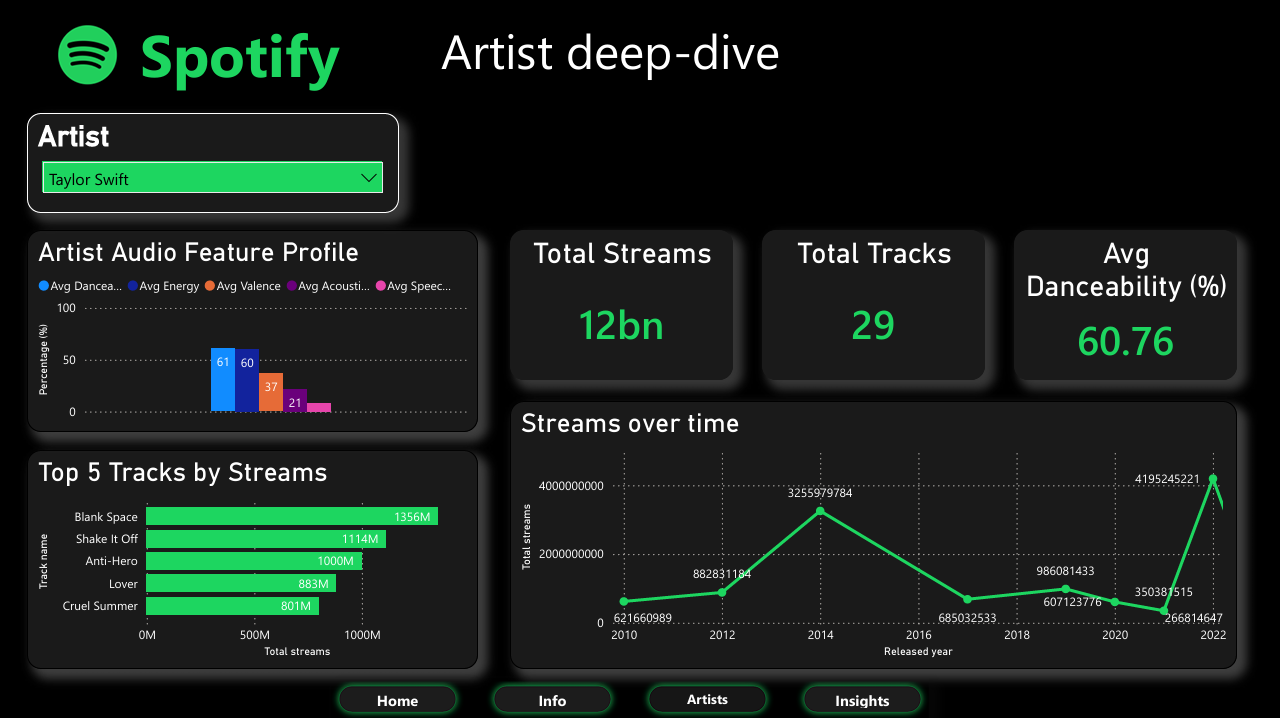

The page's visual inventory and layout, read from the dashboard file:
{"tool":"powerbi","page":{"name":"Artists","canvas":[1280,720],"ordinal":2},"visuals":[{"type":"textbox","box":[439.6,0,355,88.5],"z":0},{"type":"slicer","title":"Artist","fields":{"Values":["spotify-2023.artist(s)_name"]},"box":[26.3,112.8,371.6,100.2],"z":1000},{"type":"image","box":[15.6,8.8,141,91.4],"z":2000},{"type":"cardVisual","title":"Total Streams","fields":{"Data":["spotify-2023.Total_Streams"]},"box":[508.7,229.5,223.7,150.8],"z":3000},{"type":"cardVisual","title":"Total Tracks","fields":{"Data":["spotify-2023.Total Tracks"]},"box":[760.6,229.5,223.7,150.8],"z":4000},{"type":"cardVisual","title":"Avg Danceability (%)","fields":{"Data":["spotify-2023.Avg Danceability"]},"box":[1012.5,229.5,223.7,150.8],"z":5000},{"type":"clusteredBarChart","title":"Top 5 Tracks by Streams","fields":{"Category":["spotify-2023.track_name"],"Y":["spotify-2023.Total_Streams"]},"box":[26.3,450.3,450.3,218.8],"z":6000},{"type":"clusteredColumnChart","title":"Artist Audio Feature Profile","fields":{"Y":["spotify-2023.Avg Danceability","spotify-2023.Avg Energy","spotify-2023.Avg Valence","spotify-2023.Avg Acousticness","spotify-2023.Avg Speechiness"]},"box":[26.3,229.5,450.3,202.3],"z":7000},{"type":"lineChart","title":"Streams over time","fields":{"Category":["spotify-2023.released_year"],"Y":["spotify-2023.Total_Streams"]},"box":[508.7,400.7,727.5,268.4],"z":8000},{"type":"pageNavigator","box":[329.7,677.9,598.2,41.8],"z":9000},{"type":"textbox","box":[134.2,8.8,230,99],"z":10000}]}

Visuals, with their boxes in screenshot pixels (x1, y1, x2, y2), scaled from the page's 1280x720 canvas onto the 1280x718 screenshot:
textbox: select_region(440, 0, 795, 88)
"Artist" slicer: select_region(26, 112, 398, 212)
image: select_region(16, 9, 157, 100)
"Total Streams" cardVisual: select_region(509, 229, 732, 379)
"Total Tracks" cardVisual: select_region(761, 229, 984, 379)
"Avg Danceability (%)" cardVisual: select_region(1012, 229, 1236, 379)
"Top 5 Tracks by Streams" clusteredBarChart: select_region(26, 449, 477, 667)
"Artist Audio Feature Profile" clusteredColumnChart: select_region(26, 229, 477, 431)
"Streams over time" lineChart: select_region(509, 400, 1236, 667)
pageNavigator: select_region(330, 676, 928, 717)
textbox: select_region(134, 9, 364, 108)
